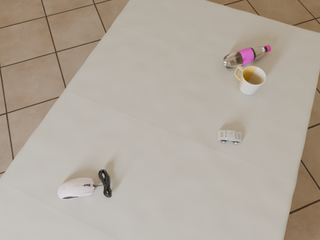bottle: (224, 45, 271, 69)
cup: (235, 66, 266, 95)
mouse: (58, 178, 95, 200)
toy_car: (218, 130, 241, 144)
